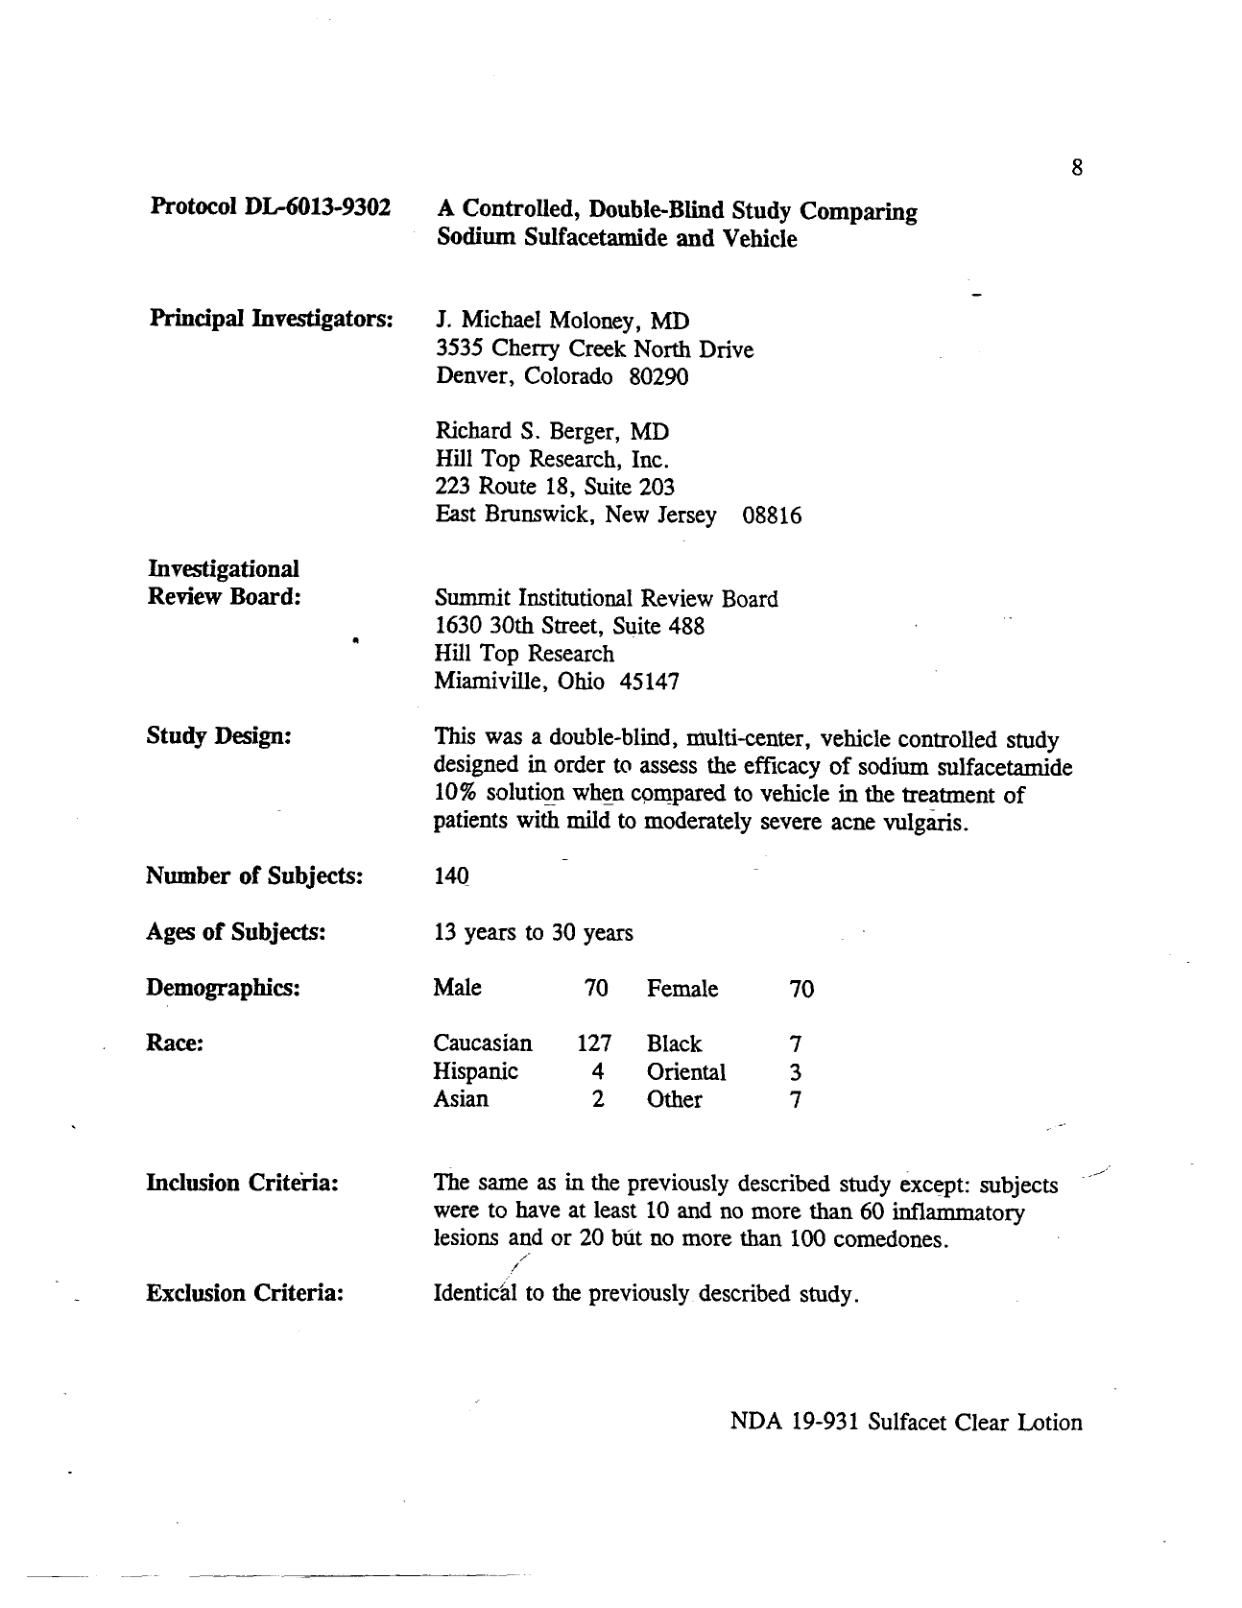nolines: (146, 185, 1076, 1309)
